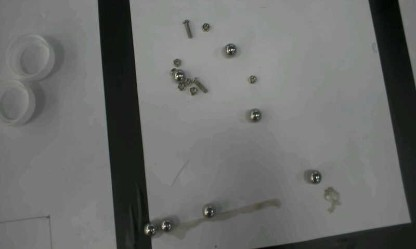ironball: (143, 222, 157, 236), (308, 169, 321, 184), (202, 203, 215, 218), (248, 108, 261, 122), (159, 219, 172, 232), (224, 42, 236, 55), (173, 71, 184, 81)
